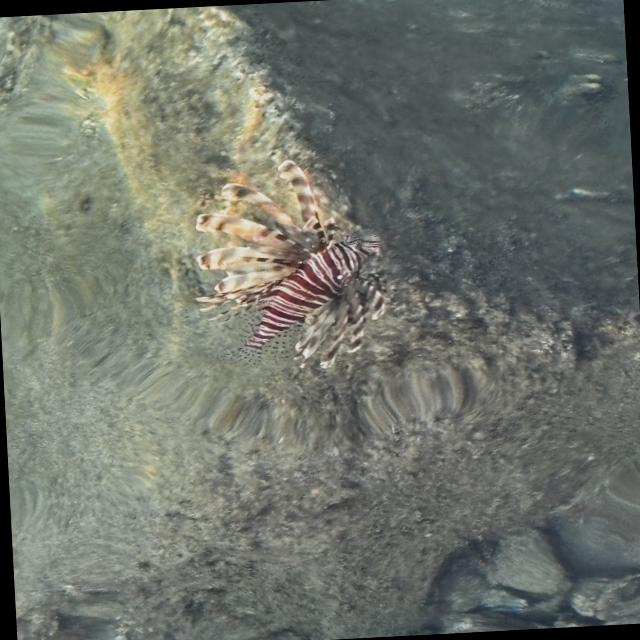Aslan Baligi: (186, 153, 396, 377)
